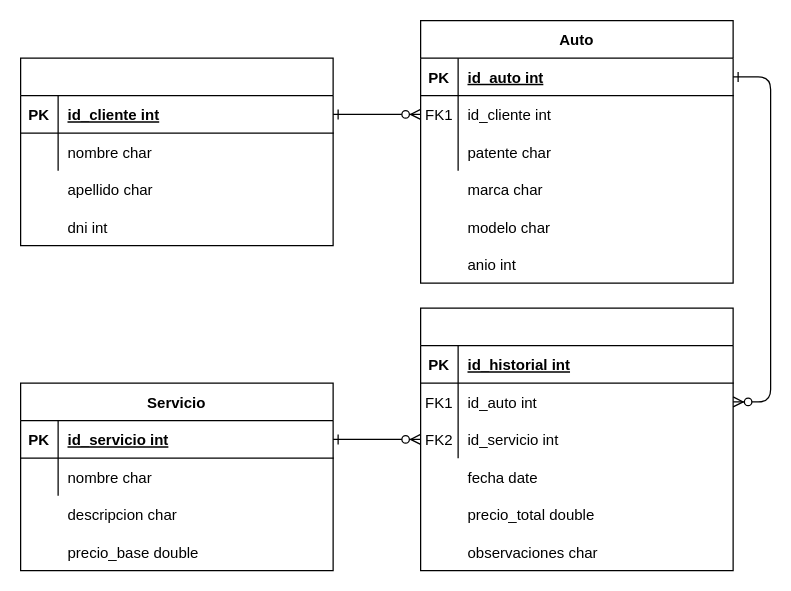
Image size: 791x591. Some labels were removed from this diagram. Here are the shapes that lost their labels. From the top down, the box of each, then its label:
(19, 57, 333, 246): Clientes
(419, 307, 733, 571): HistorialServicios
